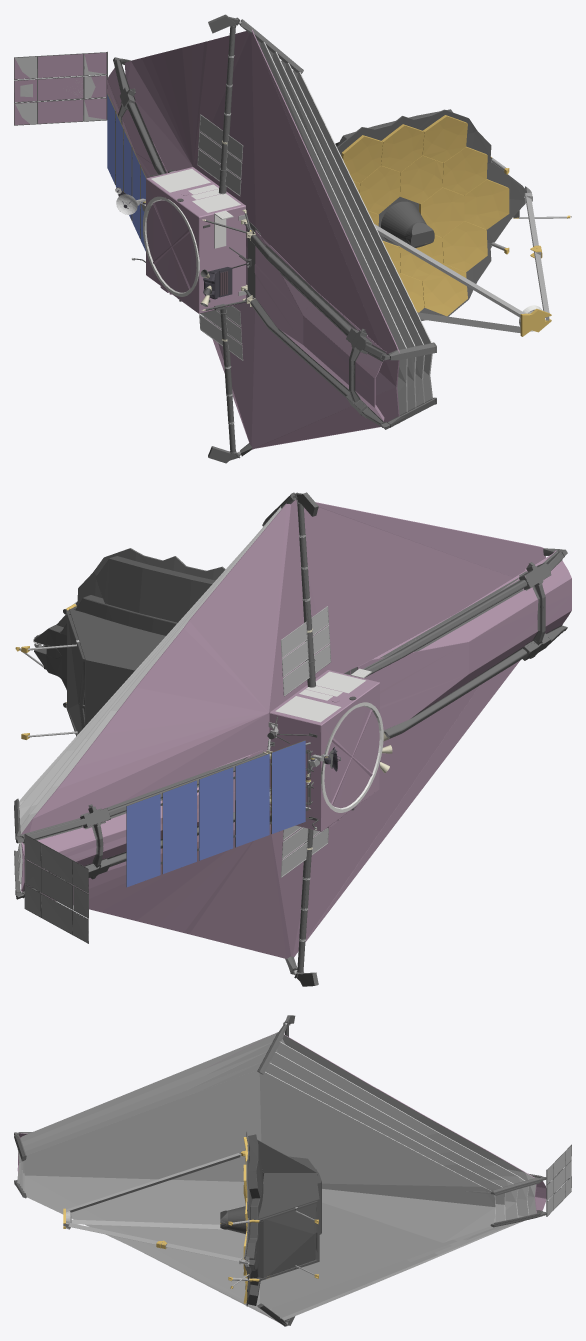
Rendered from jwst.glb.
3 renders of one model, top to bottom at view 1: azimuth 30°, elevation 25°; view 2: azimuth 150°, elevation 25°; view 3: azimuth 270°, elevation 25°, orthographic. The views are drawn at different scales.
Visible parts, largest first — view 1: Layer_0; view 2: Layer_0; view 3: Layer_0.
Part boxes in pixels (<box>): Layer_0: <box>14,14,571,463</box>; Layer_0: <box>14,492,571,986</box>; Layer_0: <box>14,1015,571,1326</box>.
Bounding box in the file's own units: 11.37 × 13 × 21.2.
